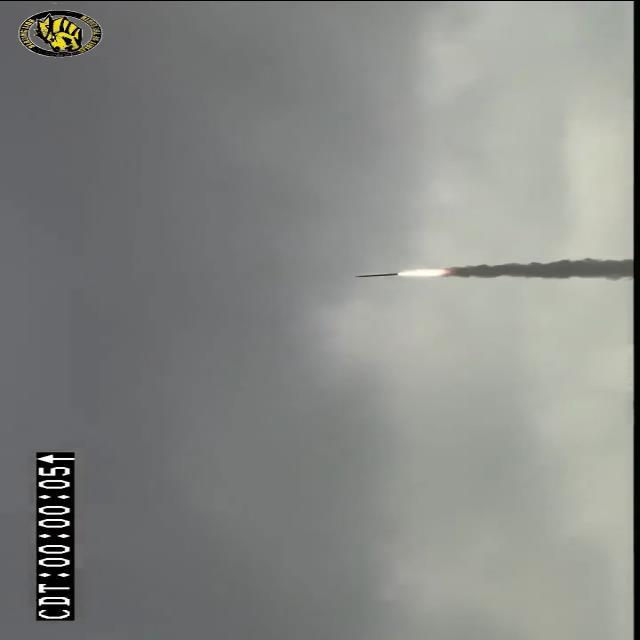Missile: (348, 270, 411, 280)
